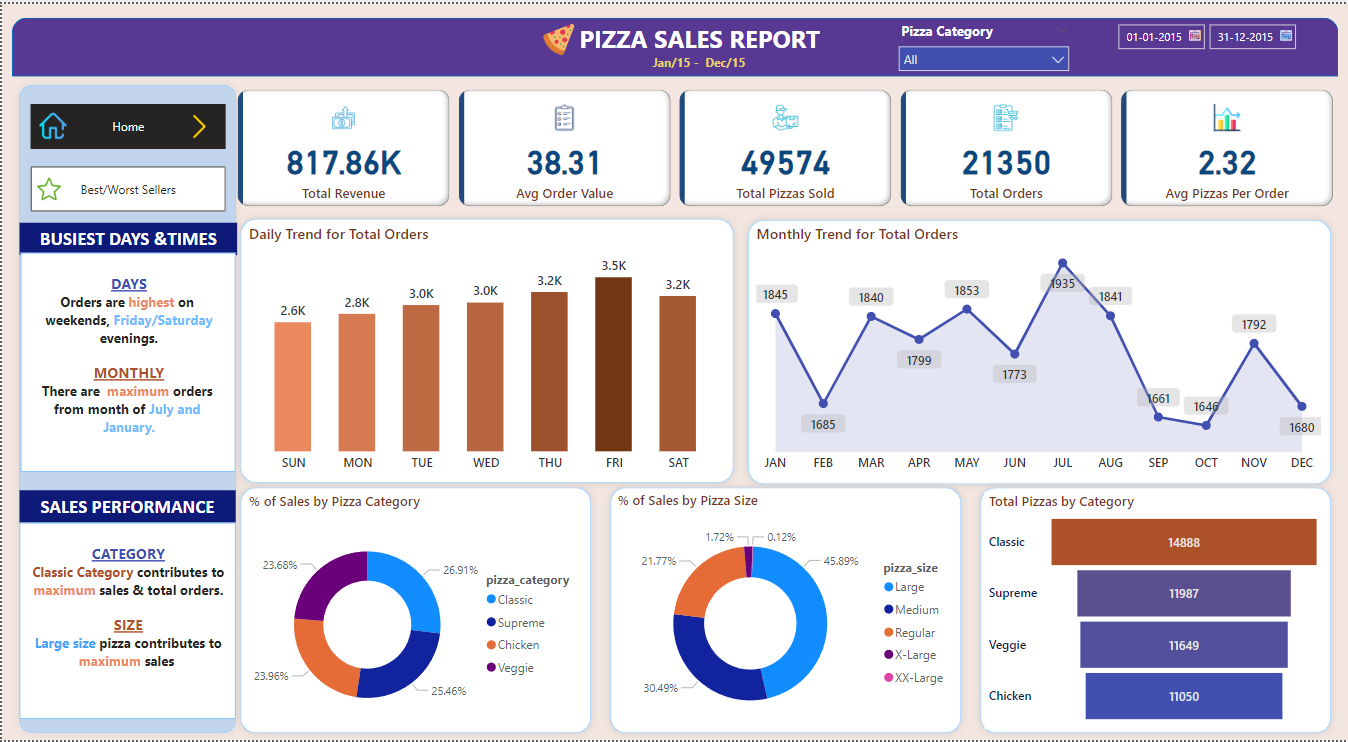

The page's visual inventory and layout, read from the dashboard file:
{"tool":"powerbi","page":{"name":"Home","canvas":[1500,820],"ordinal":0},"visuals":[{"type":"shape","box":[11.1,82.1,257.6,737.9],"z":0},{"type":"cardVisual","fields":{"Data":["pizza_sales.Total Revenue","pizza_sales.Avg Order Value","pizza_sales.Total Pizzas Sold","pizza_sales.Total Orders","pizza_sales.Avg Pizzas Per Order"]},"box":[257.6,90.5,1230.7,140.6],"z":1000},{"type":"shape","box":[11.1,15.3,1477.1,65.4],"z":2000},{"type":"textbox","box":[620.9,15.3,311.9,45.9],"z":3000},{"type":"textbox","box":[708.6,51.5,135,29.2],"z":4000},{"type":"image","box":[597.2,16.7,45.9,45.9],"z":5000},{"type":"shape","box":[257.6,231.1,565.2,310.5],"z":6000},{"type":"columnChart","title":"Daily Trend for Total Orders","fields":{"Category":["pizza_sales.Order Day"],"Y":["pizza_sales.Total Orders"]},"box":[270.1,243.6,538.8,286.8],"z":7000},{"type":"shape","box":[822.8,232.5,665.5,310.5],"z":8000},{"type":"areaChart","title":"Monthly Trend for Total Orders","fields":{"Category":["pizza_sales.Order Month"],"Y":["pizza_sales.Total Orders"]},"box":[835.3,243.6,639,286.8],"z":9000},{"type":"shape","box":[257.6,530.4,406.5,289.6],"z":10000},{"type":"shape","box":[669.6,530.4,406.5,289.6],"z":11000},{"type":"shape","box":[1081.7,530.4,406.5,289.6],"z":12000},{"type":"donutChart","title":"% of Sales by Pizza Category","fields":{"Category":["pizza_sales.pizza_category"],"Y":["pizza_sales.Total Revenue"]},"box":[270.1,543,382.9,277],"z":13000},{"type":"donutChart","title":"% of Sales by Pizza Size","fields":{"Category":["pizza_sales.pizza_size"],"Y":["pizza_sales.Total Revenue"]},"box":[680.8,541.6,385.6,277],"z":14000},{"type":"funnel","title":"Total Pizzas by Category","fields":{"Category":["pizza_sales.pizza_category"],"Y":["pizza_sales.Total Pizzas Sold"]},"box":[1094.3,543,380.1,264.5],"z":15000},{"type":"textbox","box":[19.5,243.6,242.2,36.2],"z":16000},{"type":"textbox","box":[20.9,277,239.5,243.6],"z":17000},{"type":"textbox","box":[19.5,541.6,240.8,36.2],"z":18000},{"type":"textbox","box":[19.5,577.8,240.8,218.6],"z":19000},{"type":"slicer","fields":{"Values":["pizza_sales.pizza_category"]},"box":[988.5,15.3,210.2,64],"z":20000},{"type":"slicer","fields":{"Values":["pizza_sales.order_date"]},"box":[1230.7,12.5,224.1,66.8],"z":21000},{"type":"pageNavigator","box":[32,111.4,217.2,50.1],"z":22000},{"type":"pageNavigator","box":[32,181,217.2,50.1],"z":23000},{"type":"image","box":[190.7,118.3,58.5,36.2],"z":24000},{"type":"image","box":[32,115.6,48.7,40.4],"z":25000},{"type":"image","box":[32,187.9,40.4,36.2],"z":26000}]}

Visuals, with their boxes in screenshot pixels (x1, y1, x2, y2), scaled from the page's 1500x820 canvas onto the 1348x742 screenshot:
shape: <region>10, 74, 241, 741</region>
cardVisual - pizza_sales.Total Revenue x pizza_sales.Avg Order Value: <region>231, 82, 1337, 209</region>
shape: <region>10, 14, 1337, 73</region>
textbox: <region>558, 14, 838, 55</region>
textbox: <region>637, 47, 758, 73</region>
image: <region>537, 15, 578, 57</region>
shape: <region>231, 209, 739, 490</region>
"Daily Trend for Total Orders" columnChart: <region>243, 220, 727, 480</region>
shape: <region>739, 210, 1337, 491</region>
"Monthly Trend for Total Orders" areaChart: <region>751, 220, 1325, 480</region>
shape: <region>231, 480, 597, 741</region>
shape: <region>602, 480, 967, 741</region>
shape: <region>972, 480, 1337, 741</region>
"% of Sales by Pizza Category" donutChart: <region>243, 491, 587, 741</region>
"% of Sales by Pizza Size" donutChart: <region>612, 490, 958, 741</region>
"Total Pizzas by Category" funnel: <region>983, 491, 1325, 731</region>
textbox: <region>18, 220, 235, 253</region>
textbox: <region>19, 251, 234, 471</region>
textbox: <region>18, 490, 234, 523</region>
textbox: <region>18, 523, 234, 721</region>
slicer - pizza_sales.pizza_category: <region>888, 14, 1077, 72</region>
slicer - pizza_sales.order_date: <region>1106, 11, 1307, 72</region>
pageNavigator: <region>29, 101, 224, 146</region>
pageNavigator: <region>29, 164, 224, 209</region>
image: <region>171, 107, 224, 140</region>
image: <region>29, 105, 73, 141</region>
image: <region>29, 170, 65, 203</region>
